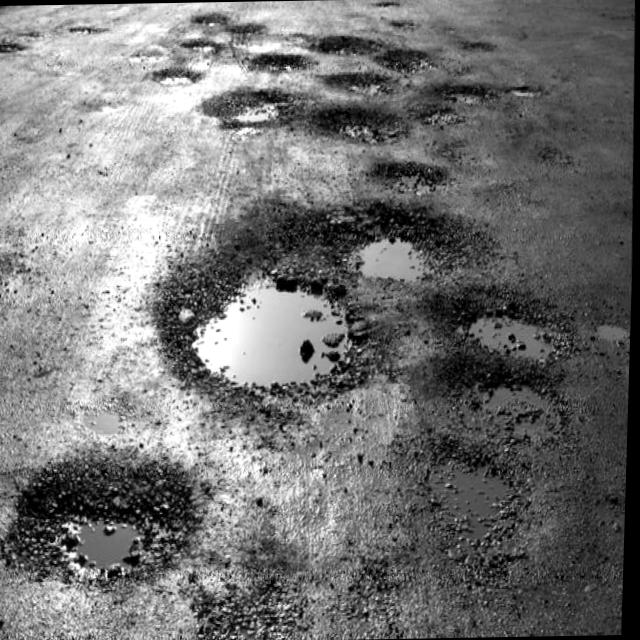pathole: (0, 0, 634, 640), (196, 288, 347, 386), (470, 317, 551, 358), (362, 239, 425, 280), (83, 521, 140, 566)
